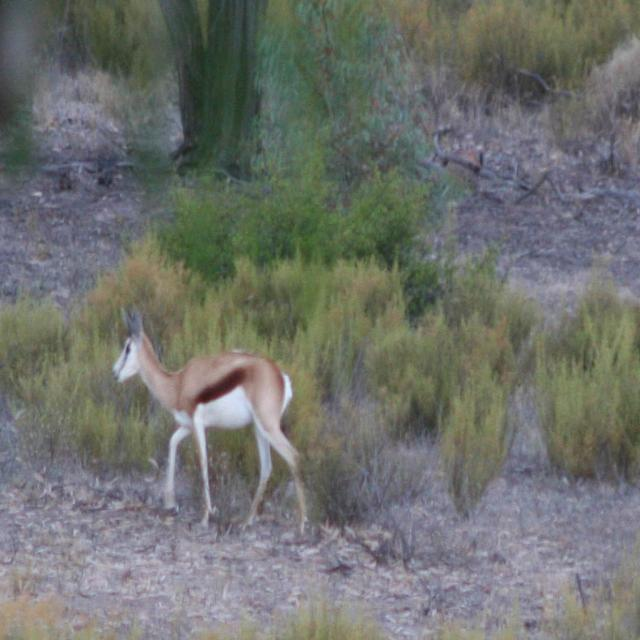Deer: (113, 304, 308, 535)
